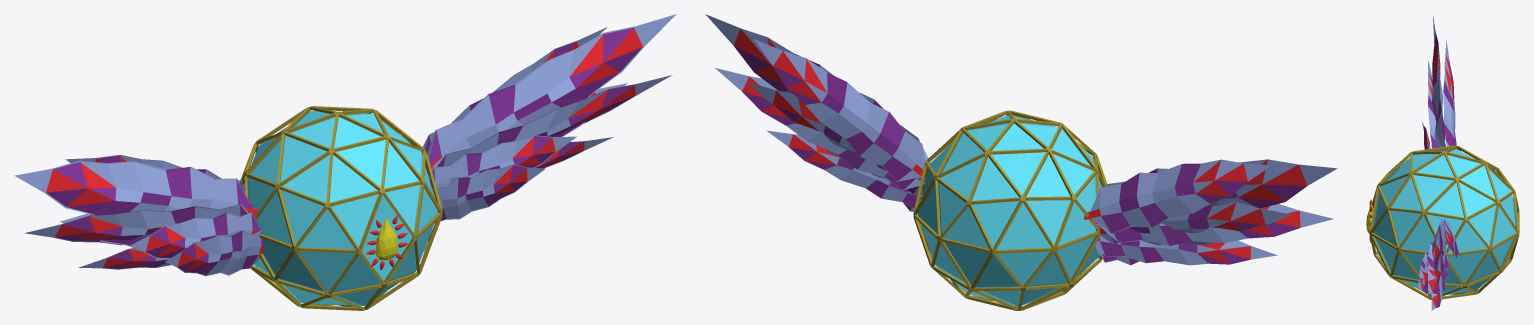
File: WindborneEssence.fbx
3 renders of one model, left to right at view 1: azimuth 30°, elevation 25°; view 2: azimuth 150°, elevation 25°; view 3: azimuth 270°, elevation 25°, orthographic. The views are drawn at different scales.
Parts seen in each view (by area): view 1: Icosphere.009, feathers.003, feathers.002, Icosphere.008, Icosphere.007; view 2: Icosphere.009, feathers.002, feathers.003, Icosphere.008; view 3: Icosphere.009, Icosphere.008, feathers.002, feathers.003.
Part boxes in pixels (left/top/right/bottom): Icosphere.009: left=243, top=111, right=438, bottom=305; feathers.003: left=420, top=14, right=676, bottom=223; feathers.002: left=14, top=155, right=263, bottom=276; Icosphere.008: left=240, top=106, right=442, bottom=310; Icosphere.007: left=376, top=218, right=397, bottom=260; Icosphere.009: left=918, top=115, right=1101, bottom=306; feathers.002: left=1084, top=159, right=1337, bottom=265; feathers.003: left=705, top=14, right=930, bottom=211; Icosphere.008: left=913, top=110, right=1107, bottom=310; Icosphere.009: left=1373, top=149, right=1516, bottom=294; Icosphere.008: left=1369, top=145, right=1519, bottom=299; feathers.002: left=1418, top=16, right=1456, bottom=151; feathers.003: left=1418, top=218, right=1459, bottom=310.
Size of the model in its own units: 111 by 34.27 by 29.79.
